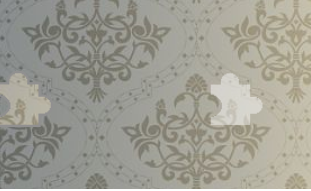target: (207, 72, 267, 128)
